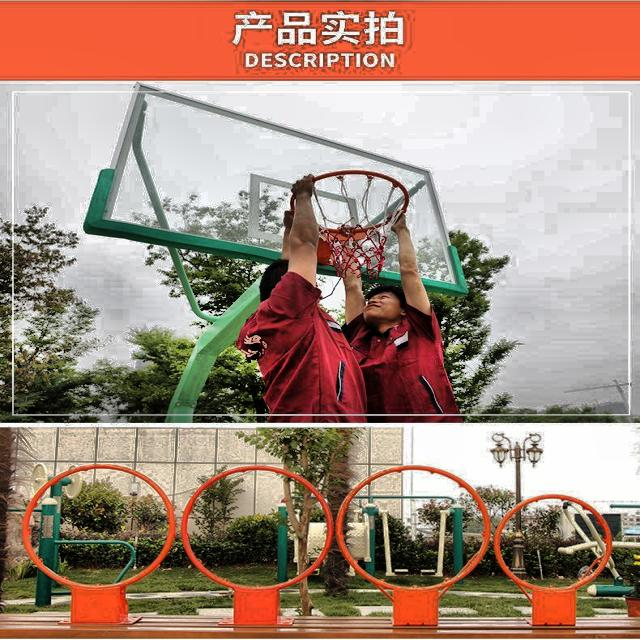rim: (318, 170, 408, 274)
